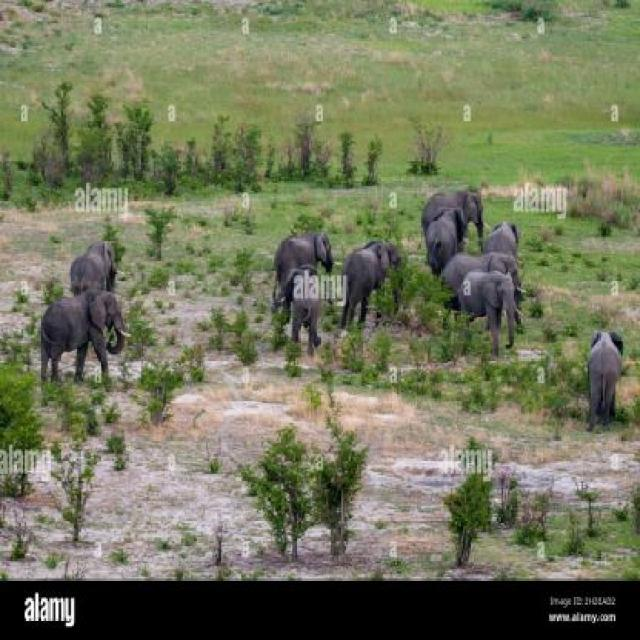elephant: (28, 298, 138, 390), (345, 216, 403, 329), (443, 277, 525, 343), (438, 248, 536, 292), (589, 317, 629, 423), (284, 273, 328, 369), (420, 170, 486, 232), (76, 224, 122, 298), (278, 227, 340, 279), (423, 202, 462, 278), (489, 209, 523, 257)
